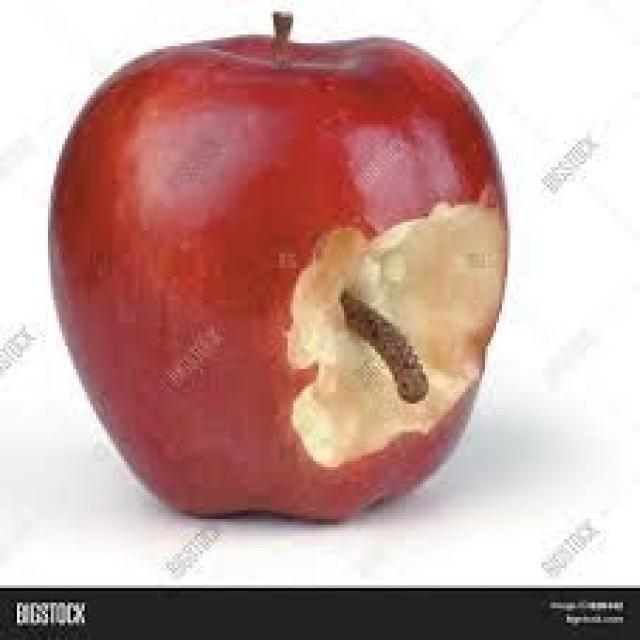Rotten: (52, 15, 503, 525)
